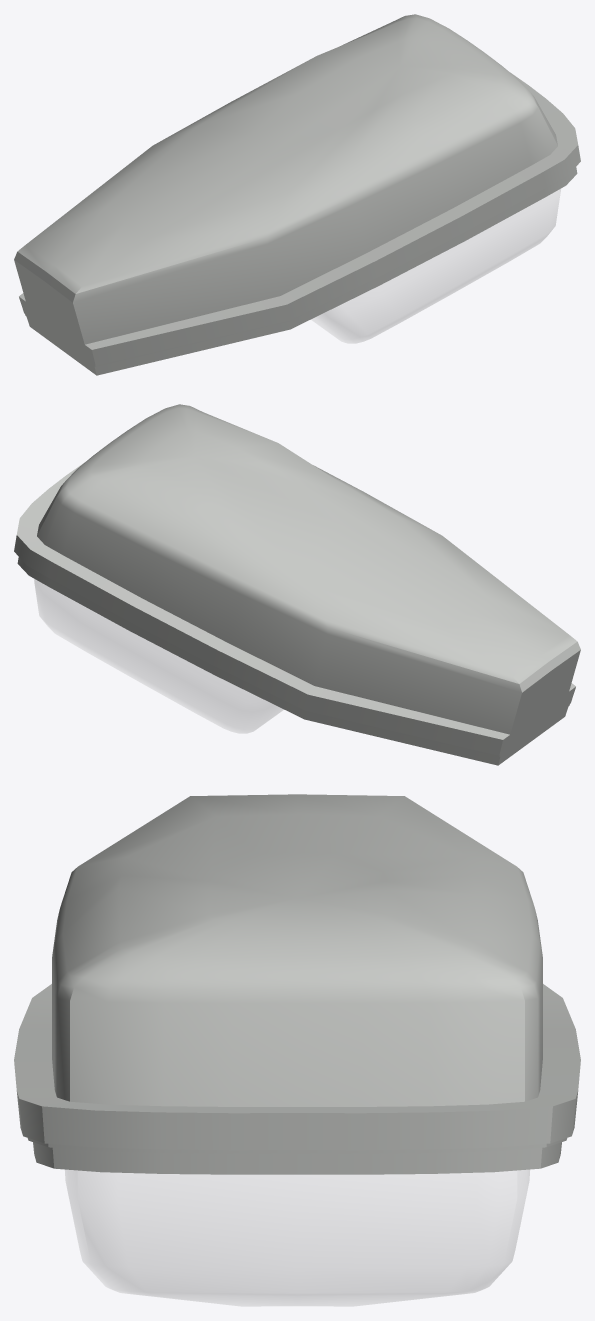
The model's file is SGS_203.glb.
The picture shows the model from 3 angles, top to bottom: view 1: azimuth 30°, elevation 25°; view 2: azimuth 150°, elevation 25°; view 3: azimuth 270°, elevation 25°; orthographic projection. The views are drawn at different scales.
Parts seen in each view (by area): view 1: BezierCurve.002, BezierCurve.004; view 2: BezierCurve.002, BezierCurve.004; view 3: BezierCurve.002, BezierCurve.004.
Boxes of the visible parts, x1=… form: BezierCurve.002: x1=14, y1=14, x2=580, y2=375; BezierCurve.004: x1=311, y1=189, x2=560, y2=343; BezierCurve.002: x1=14, y1=404, x2=580, y2=765; BezierCurve.004: x1=34, y1=579, x2=283, y2=733; BezierCurve.002: x1=14, y1=794, x2=580, y2=1174; BezierCurve.004: x1=65, y1=1170, x2=529, y2=1306.
Size of the model in its own units: 0.6057 by 0.2744 by 0.3218.
3 materials, 2 textured.
